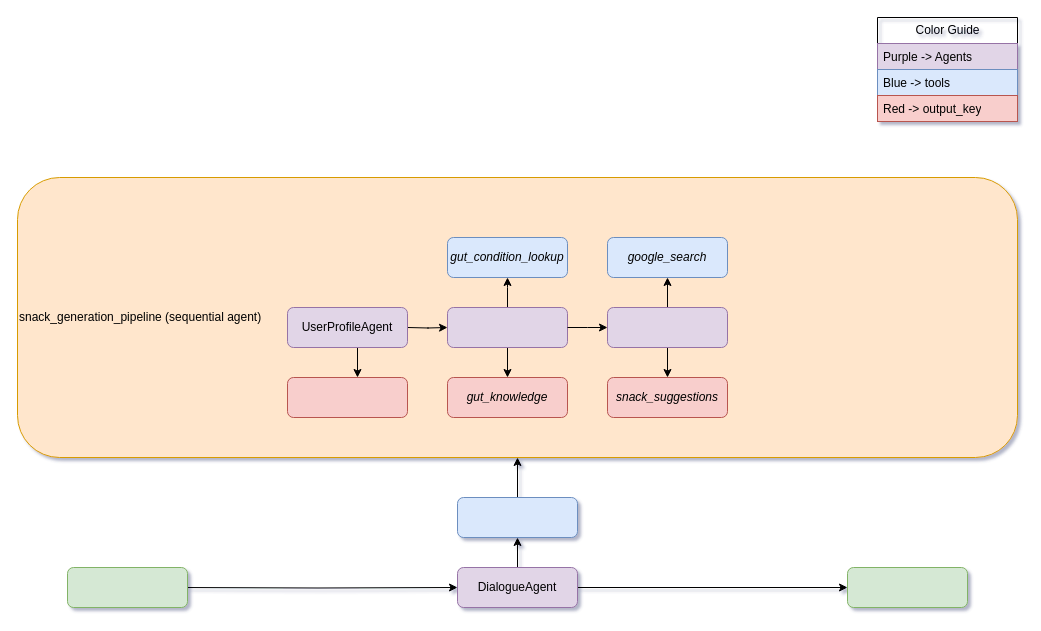
Some shapes in this 1041 by 631 pixel diagram are drawn without their labels. The centre of each missing label's shape, as x and y in pixels:
ConditionRAGAgent: point (507, 327)
Output: point (907, 587)
snack_pipeline_tool: point (517, 517)
SnackChefAgent: point (667, 327)
User Input: point (127, 587)
user_profile_json: point (347, 397)
